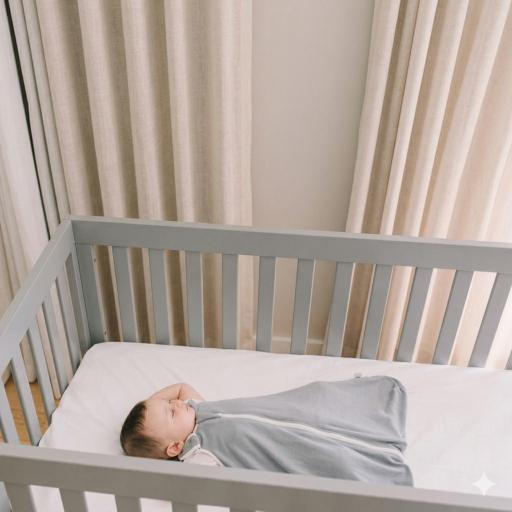baby: (121, 376, 413, 485)
crib: (0, 216, 511, 511)
